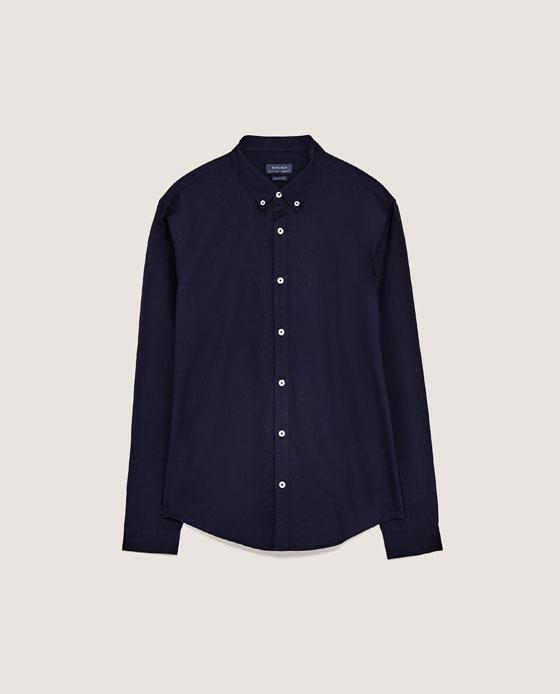teeshirt: (110, 132, 460, 586)
